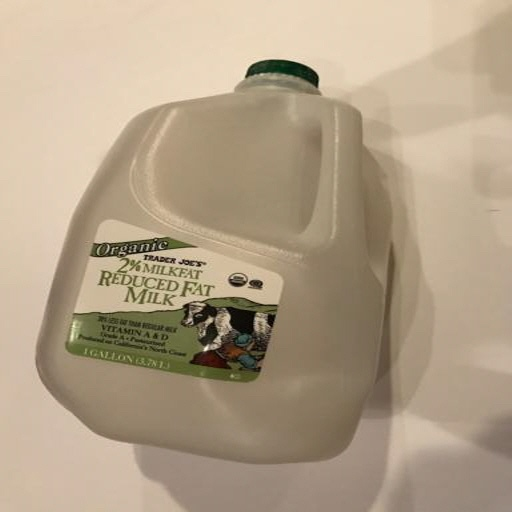Plastic_1: (39, 57, 391, 459)
